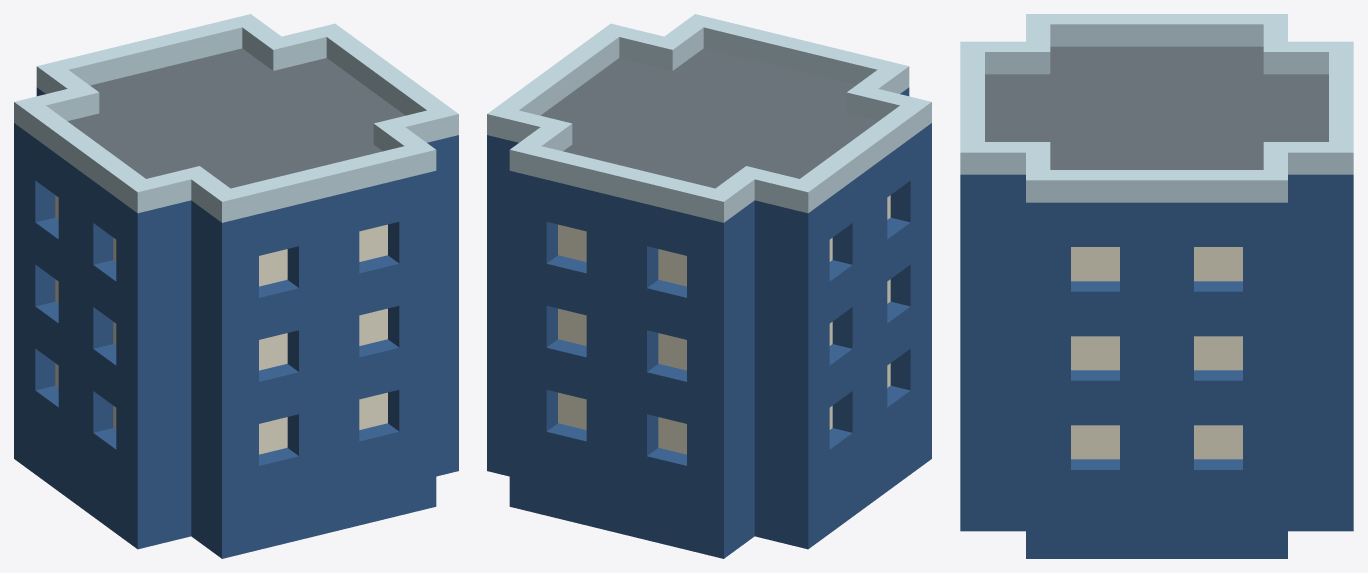
Rendered from Building_4 (Blue).obj.
3 views of the same model, side by side, from view 1: azimuth 30°, elevation 25°; view 2: azimuth 150°, elevation 25°; view 3: azimuth 270°, elevation 25° (orthographic). The views are drawn at different scales.
Visible parts, largest first — view 1: Building_4_(Blue); view 2: Building_4_(Blue); view 3: Building_4_(Blue).
Boxes of the visible parts, <box> form: Building_4_(Blue): <box>14,14,458,558</box>; Building_4_(Blue): <box>487,14,931,558</box>; Building_4_(Blue): <box>960,14,1353,558</box>.
Size of the model in its own units: 1.6 by 1.7 by 1.6.
